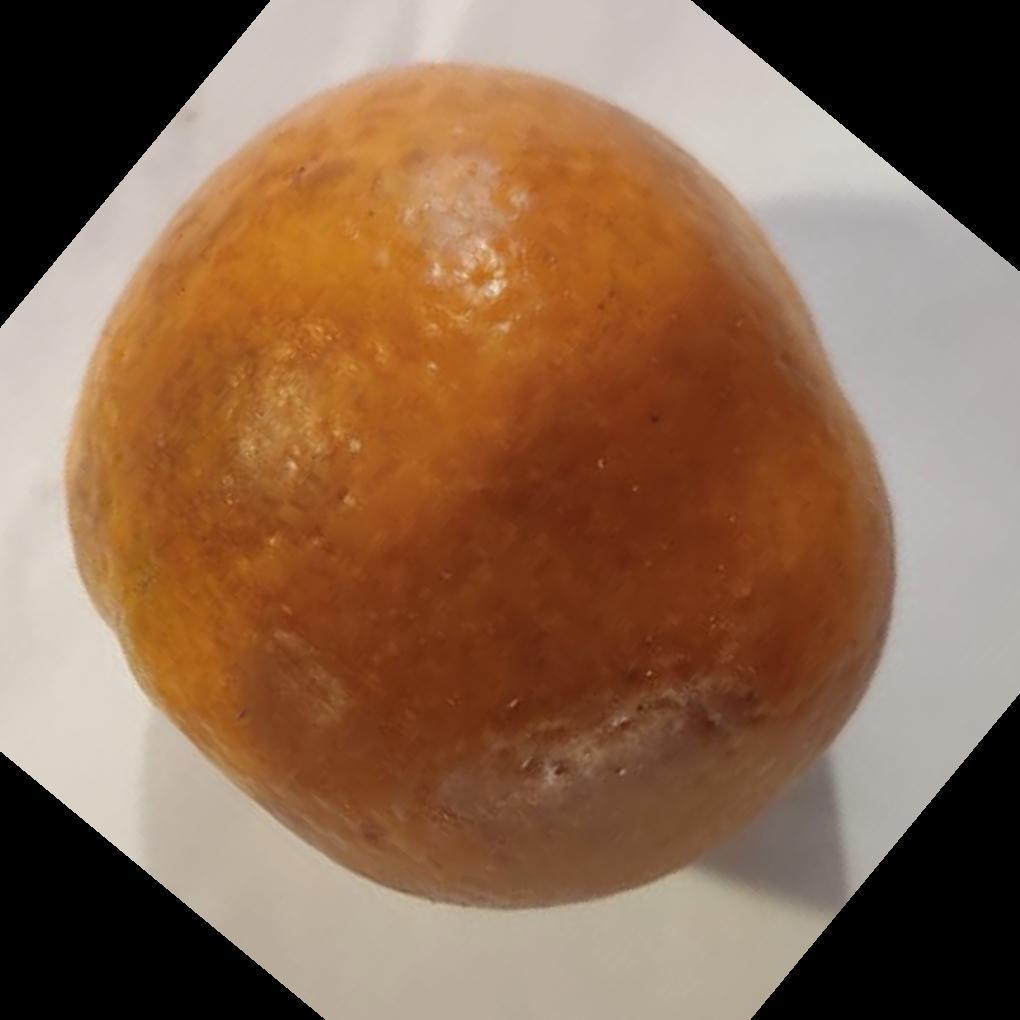FreshOrange: (61, 62, 898, 915)
